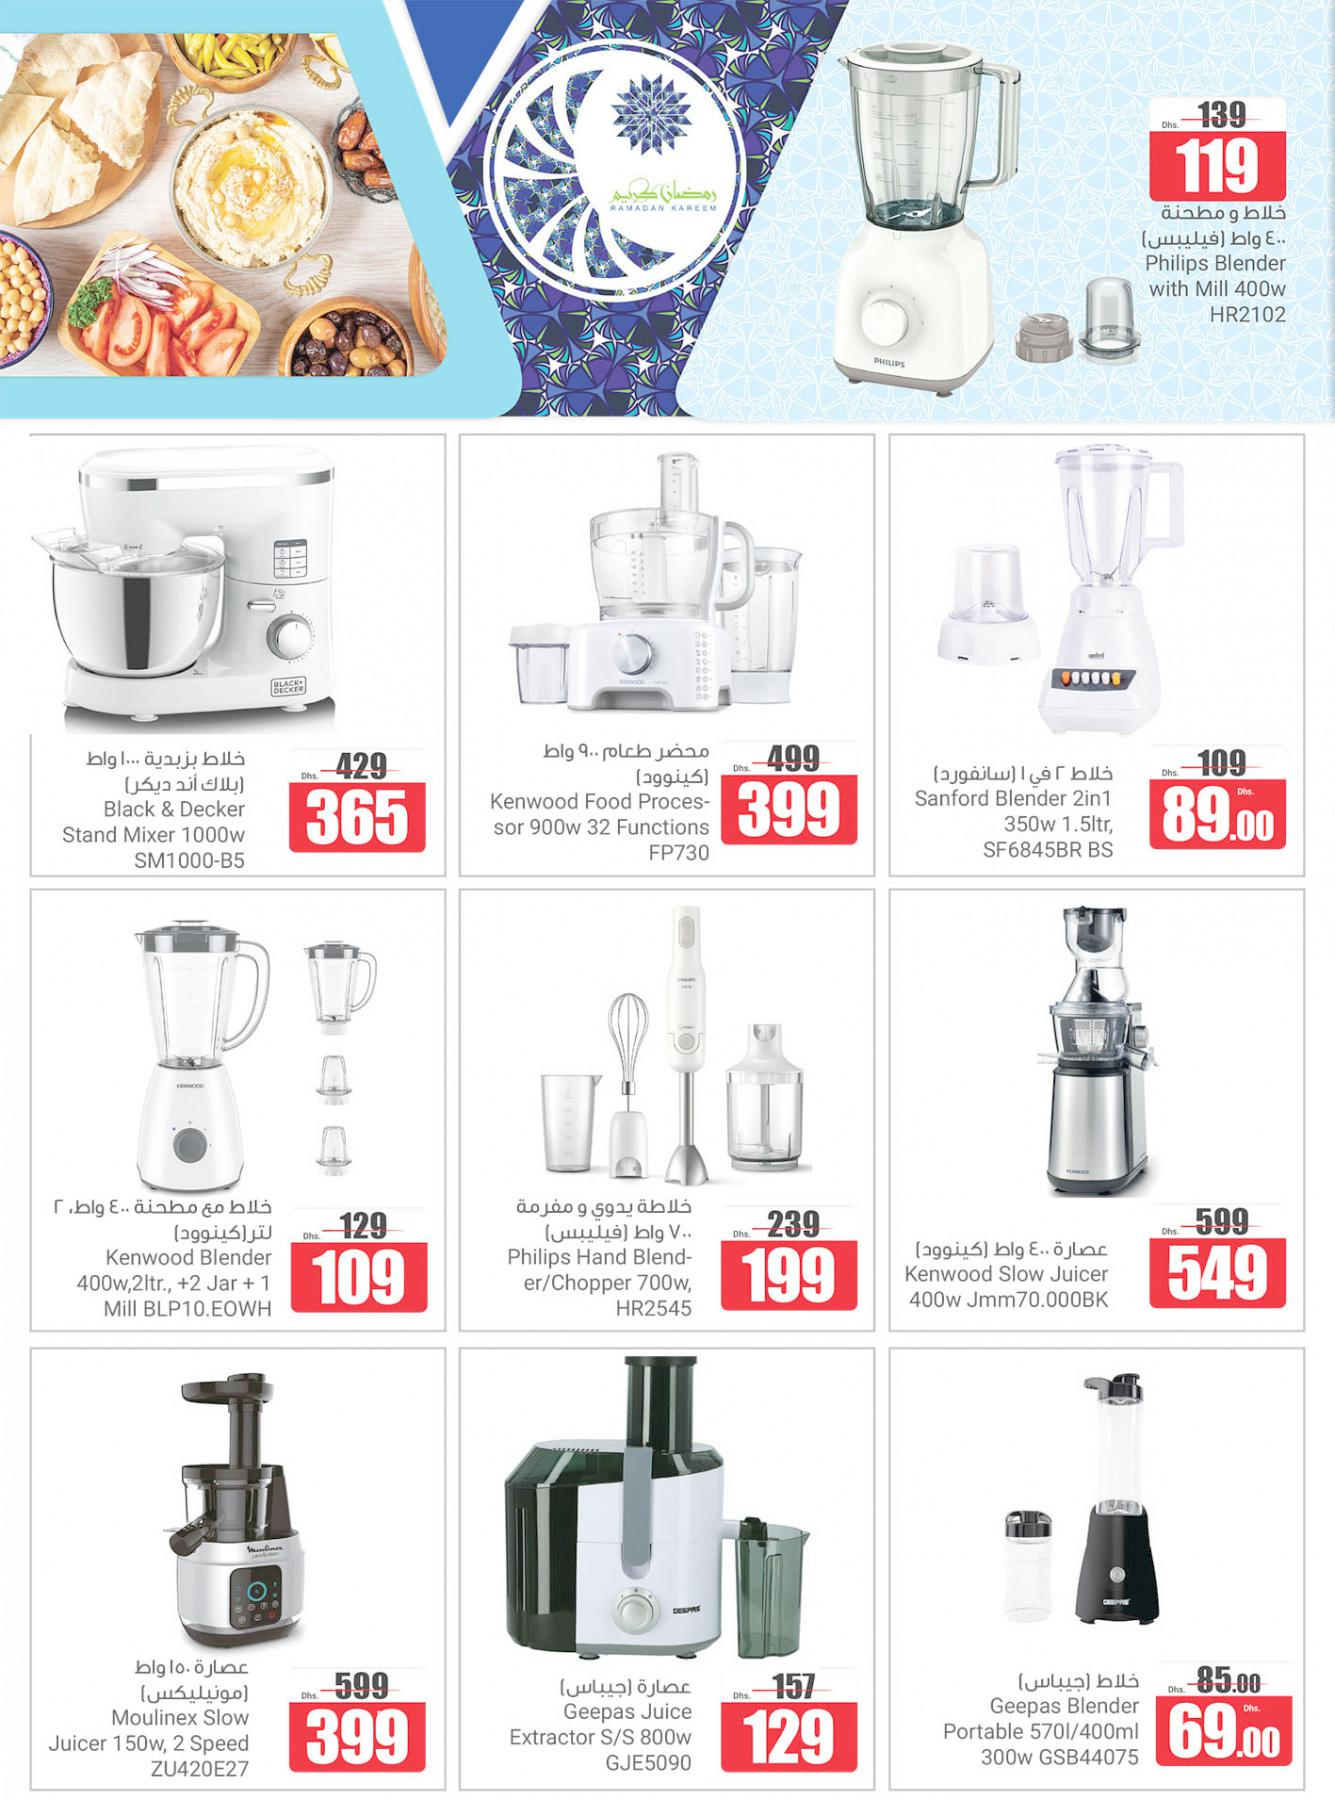text: (38, 1243, 279, 1323), (487, 788, 712, 868), (938, 1692, 1146, 1778), (907, 786, 1126, 865), (480, 1246, 710, 1321), (43, 1709, 271, 1782), (499, 1700, 700, 1778), (59, 796, 259, 869), (41, 1192, 287, 1246), (1139, 248, 1299, 329), (895, 1262, 1123, 1314), (67, 739, 258, 798), (510, 737, 719, 791), (488, 1194, 703, 1245), (93, 1656, 271, 1706), (1113, 205, 1296, 250), (899, 1229, 1126, 1263), (912, 757, 1125, 788), (543, 1670, 710, 1700), (996, 1663, 1153, 1695)
